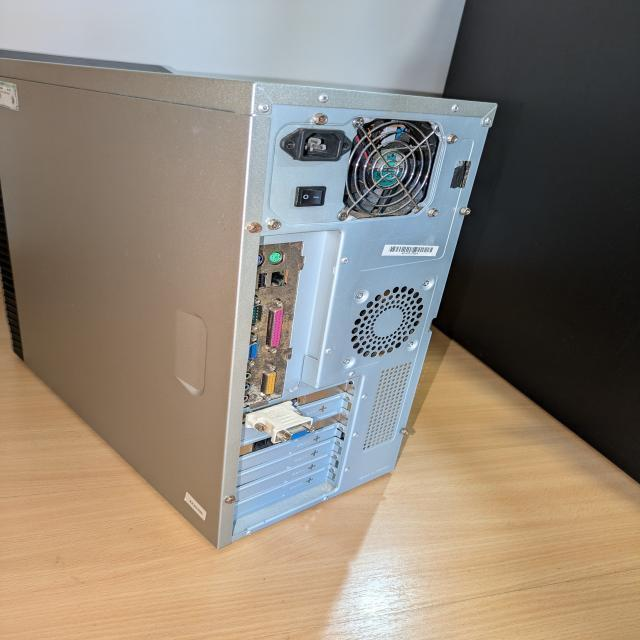PSU: (274, 116, 444, 223)
